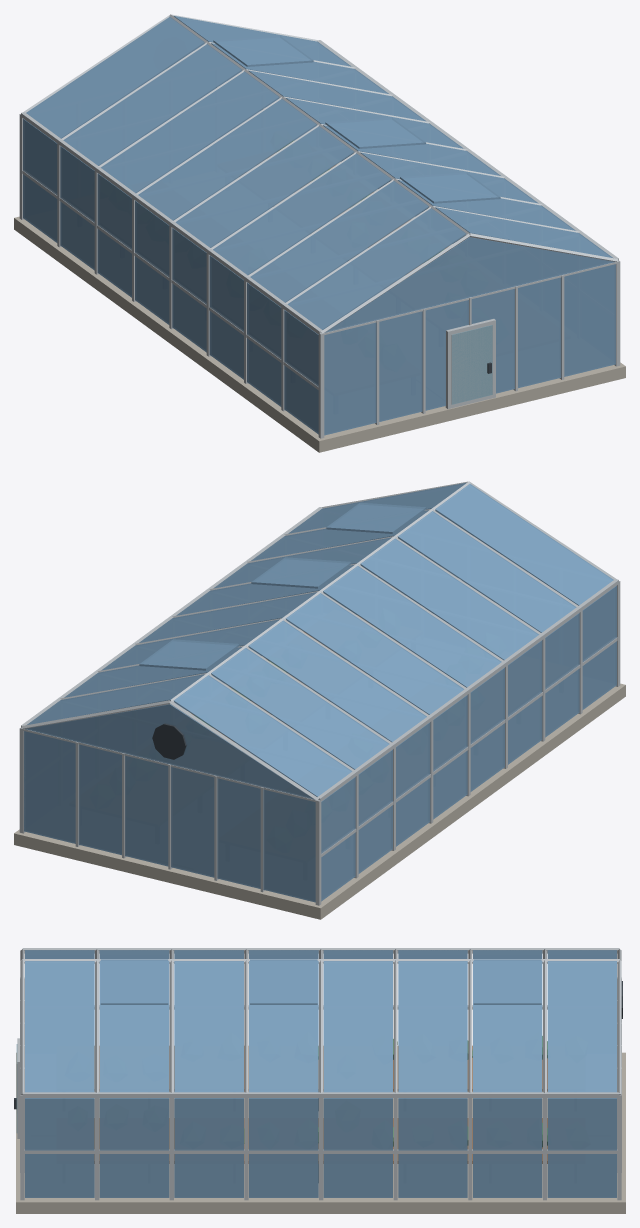
The model's file is RURAL_06.obj.
3 views of the same model, one above another, from view 1: azimuth 30°, elevation 25°; view 2: azimuth 150°, elevation 25°; view 3: azimuth 270°, elevation 25° (orthographic).
Visible parts, largest first — view 1: glazing_roof, glazing_end_front, glazing_walls, frame, foundation, roof_vents, frame_rails, door, end_mullions_front; view 2: glazing_roof, glazing_end_back, glazing_walls, frame, foundation, roof_vents, frame_rails, end_mullions_back, vent_fan; view 3: glazing_roof, glazing_walls, foundation, frame, roof_vents, frame_rails, benches, door, end_mullions_front.
Part boxes in pixels (x1=…): glazing_roof: x1=26, y1=16, x2=613, y2=329; glazing_end_front: x1=324, y1=237, x2=615, y2=435; glazing_walls: x1=23, y1=118, x2=464, y2=434; frame: x1=19, y1=14, x2=620, y2=438; foundation: x1=14, y1=162, x2=625, y2=452; roof_vents: x1=213, y1=35, x2=500, y2=203; frame_rails: x1=21, y1=14, x2=618, y2=389; door: x1=445, y1=319, x2=495, y2=408; end_mullions_front: x1=375, y1=275, x2=564, y2=425; glazing_roof: x1=26, y1=483, x2=613, y2=796; glazing_end_back: x1=24, y1=704, x2=315, y2=902; glazing_walls: x1=175, y1=585, x2=616, y2=901; frame: x1=19, y1=481, x2=620, y2=905; foundation: x1=14, y1=629, x2=625, y2=919; roof_vents: x1=139, y1=502, x2=426, y2=670; frame_rails: x1=21, y1=481, x2=618, y2=856; end_mullions_back: x1=75, y1=742, x2=264, y2=892; vent_fan: x1=152, y1=723, x2=186, y2=759; glazing_roof: x1=25, y1=950, x2=616, y2=1092; glazing_walls: x1=25, y1=1098, x2=616, y2=1197; foundation: x1=16, y1=1052, x2=625, y2=1213; frame: x1=20, y1=949, x2=621, y2=1200; roof_vents: x1=100, y1=959, x2=541, y2=1004; frame_rails: x1=22, y1=948, x2=619, y2=1153; benches: x1=94, y1=1045, x2=547, y2=1163; door: x1=14, y1=1038, x2=19, y2=1138; end_mullions_front: x1=20, y1=977, x2=24, y2=1172.
Bounding box in the file's own units: 8.3 × 4.7 × 14.35.
